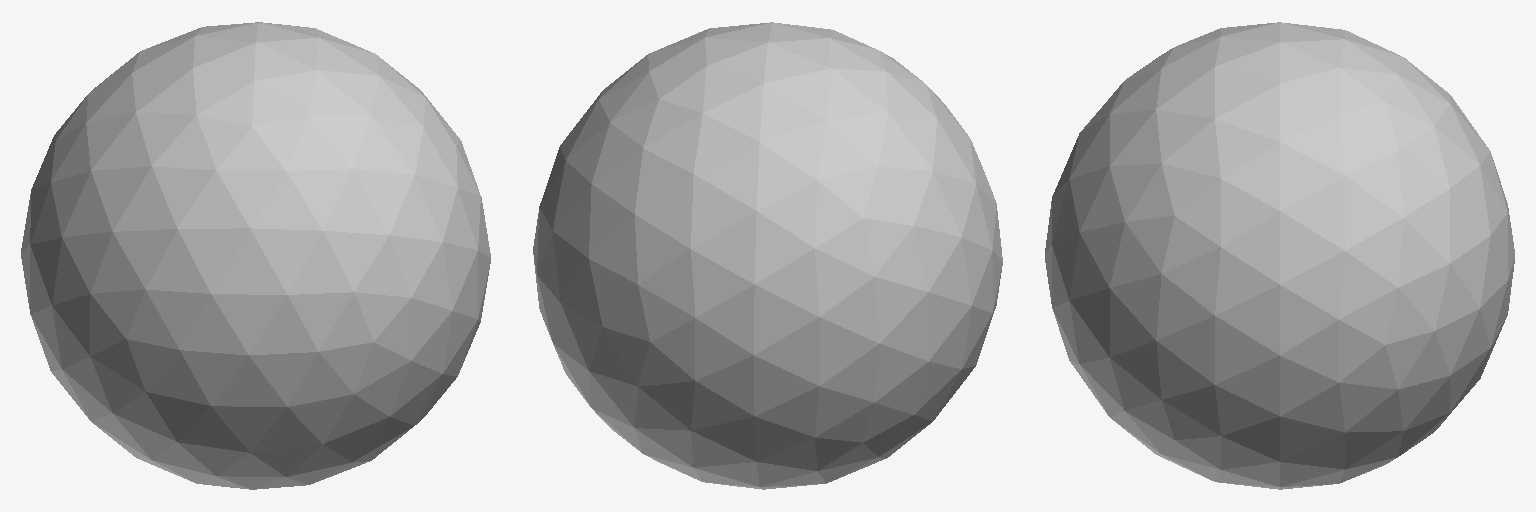
The model's file is beachball.obj.
3 views of the same model, side by side, from view 1: azimuth 30°, elevation 25°; view 2: azimuth 150°, elevation 25°; view 3: azimuth 270°, elevation 25° (orthographic).
Visible parts, largest first — view 1: Icosphere; view 2: Icosphere; view 3: Icosphere.
Part boxes in pixels (left/top/right/bottom): Icosphere: left=21, top=22, right=490, bottom=489; Icosphere: left=533, top=22, right=1002, bottom=489; Icosphere: left=1045, top=22, right=1514, bottom=489.
Bounding box in the file's own units: 2 × 2 × 2.